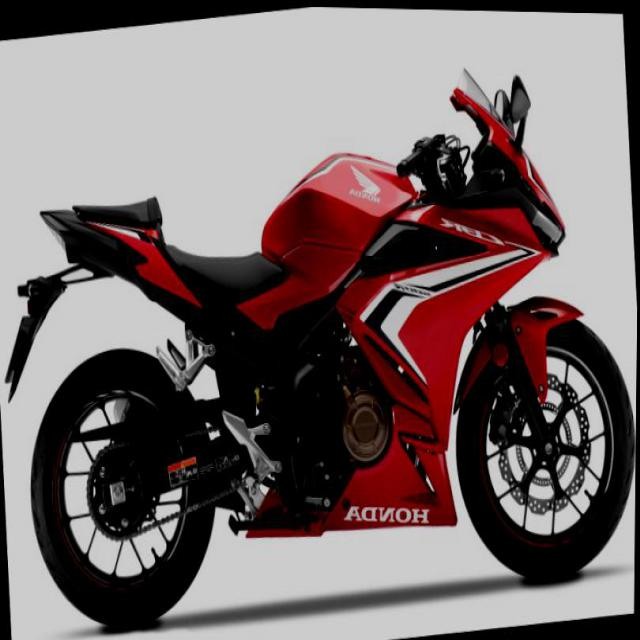CBR500R: (7, 35, 639, 639)
